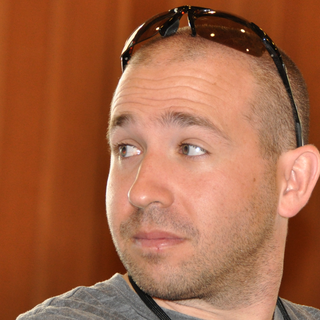eye: (172, 136, 213, 161), (109, 136, 147, 162)
